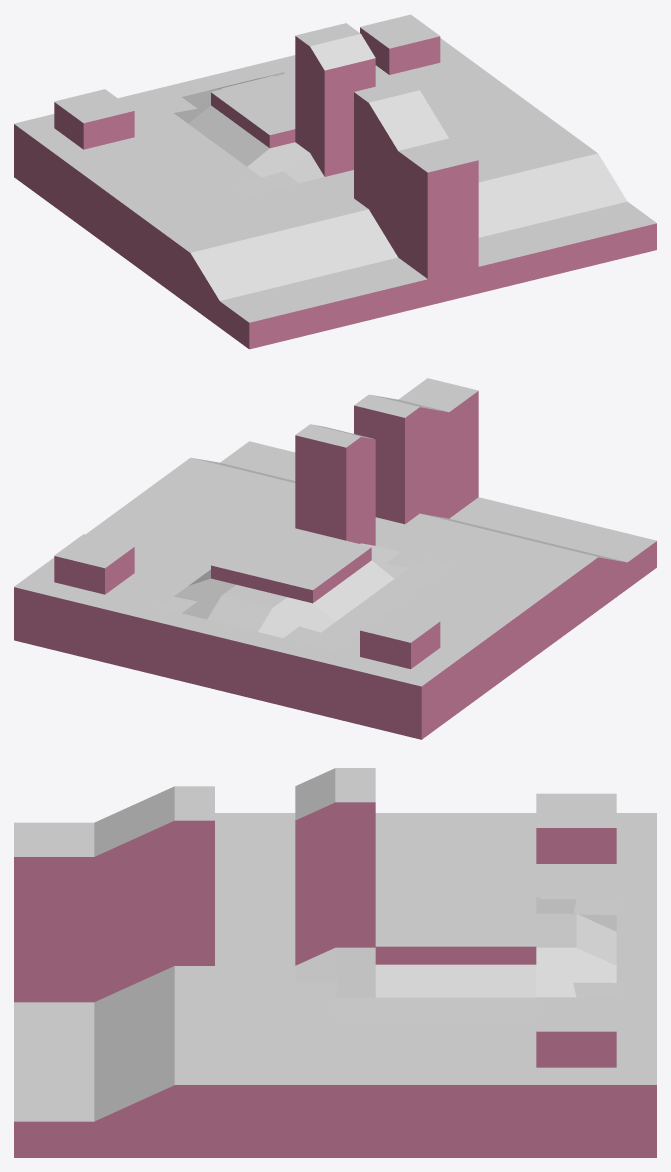
File: 1stLevel-v1.glb
3 views of the same model, one above another, from view 1: azimuth 30°, elevation 25°; view 2: azimuth 150°, elevation 25°; view 3: azimuth 270°, elevation 25° (orthographic). The views are drawn at different scales.
Visible parts, largest first — view 1: Terrain, Tile.139, Tile.210, Tile.010, Tile.016, Tile.165, Tile.168, Tile.185, Tile.218, Tile.249, Tile.145, Tile.160 (+26 smaller); view 2: Terrain, Tile.196, Tile.193, Tile.195, Tile.197, Tile.061, Tile.069, Tile.153, Tile.227, Tile.074; view 3: Terrain, Tile.063, Tile.068, Tile.250, Tile.075, Tile.219, Tile.046, Tile.194, Tile.108, Tile.064, Tile.107, Tile.122 (+179 smaller).
Part boxes in pixels (bbox=[...]): Terrain: bbox=[14, 27, 656, 349]; Tile.139: bbox=[573, 153, 612, 183]; Tile.210: bbox=[241, 234, 281, 264]; Tile.010: bbox=[394, 90, 433, 120]; Tile.016: bbox=[310, 40, 349, 70]; Tile.165: bbox=[256, 258, 295, 288]; Tile.168: bbox=[409, 114, 448, 144]; Tile.185: bbox=[496, 172, 535, 202]; Tile.218: bbox=[318, 215, 357, 245]; Tile.249: bbox=[587, 177, 627, 207]; Tile.145: bbox=[511, 196, 550, 226]; Tile.160: bbox=[205, 271, 245, 300]; Terrain: bbox=[14, 391, 656, 739]; Tile.196: bbox=[232, 602, 272, 631]; Tile.193: bbox=[207, 595, 246, 625]; Tile.195: bbox=[258, 608, 299, 637]; Tile.197: bbox=[273, 597, 312, 625]; Tile.061: bbox=[300, 604, 335, 632]; Tile.069: bbox=[313, 592, 349, 621]; Tile.153: bbox=[357, 560, 393, 589]; Tile.227: bbox=[342, 571, 379, 599]; Tile.074: bbox=[328, 582, 364, 610]; Terrain: bbox=[14, 802, 656, 1157]; Tile.063: bbox=[496, 964, 536, 997]; Tile.068: bbox=[456, 964, 496, 997]; Tile.250: bbox=[375, 964, 415, 997]; Tile.075: bbox=[416, 964, 455, 997]; Tile.219: bbox=[295, 947, 338, 982]; Tile.046: bbox=[573, 948, 616, 982]; Tile.194: bbox=[536, 947, 576, 982]; Tile.108: bbox=[335, 947, 375, 982]; Tile.064: bbox=[536, 965, 576, 997]; Tile.107: bbox=[335, 965, 375, 997]; Tile.122: bbox=[335, 997, 375, 1016].
Size of the model in its own units: 16 by 6.51 by 16.
